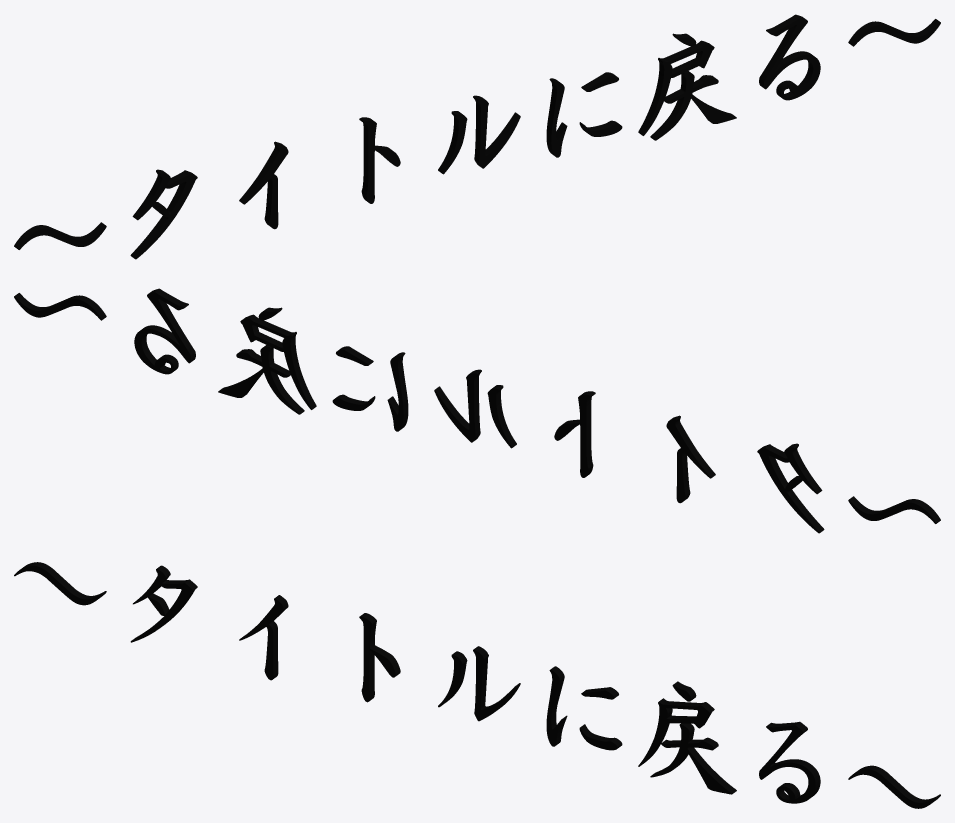
File: select3.obj
The picture shows the model from 3 angles, top to bottom: view 1: azimuth 30°, elevation 25°; view 2: azimuth 150°, elevation 25°; view 3: azimuth 330°, elevation 25°; orthographic projection.
Visible parts, largest first — view 1: テキスト.003; view 2: テキスト.003; view 3: テキスト.003.
Part boxes in pixels (bbox=[...]): テキスト.003: bbox=[14, 14, 940, 259]; テキスト.003: bbox=[14, 288, 940, 533]; テキスト.003: bbox=[14, 562, 940, 808].
Size of the model in its own units: 67.3 by 6.84 by 0.6064.
Materials: 1 (1 with a texture image).
